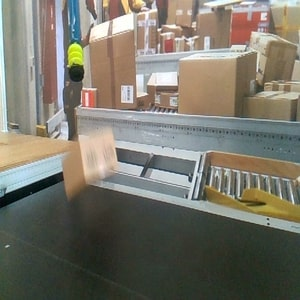box: (61, 126, 120, 204)
